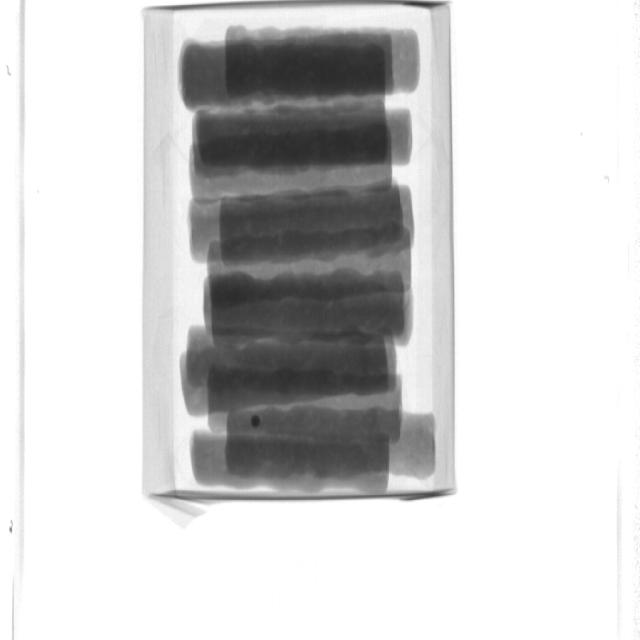ym: (252, 417, 261, 428)
